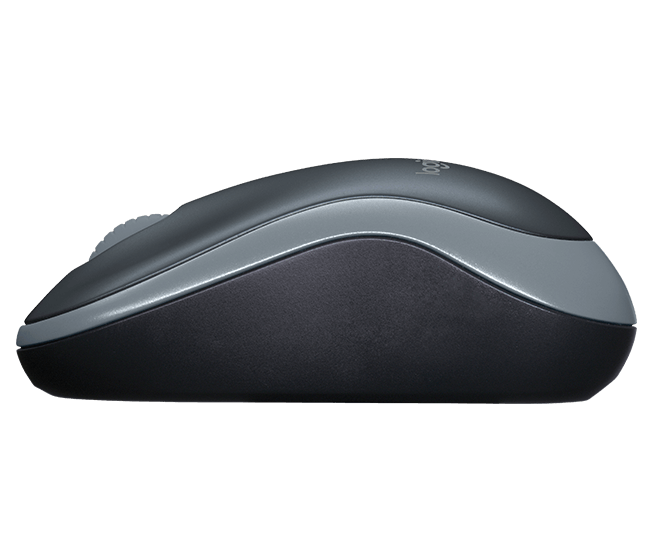logitech-mouse-m185: (8, 157, 641, 410)
